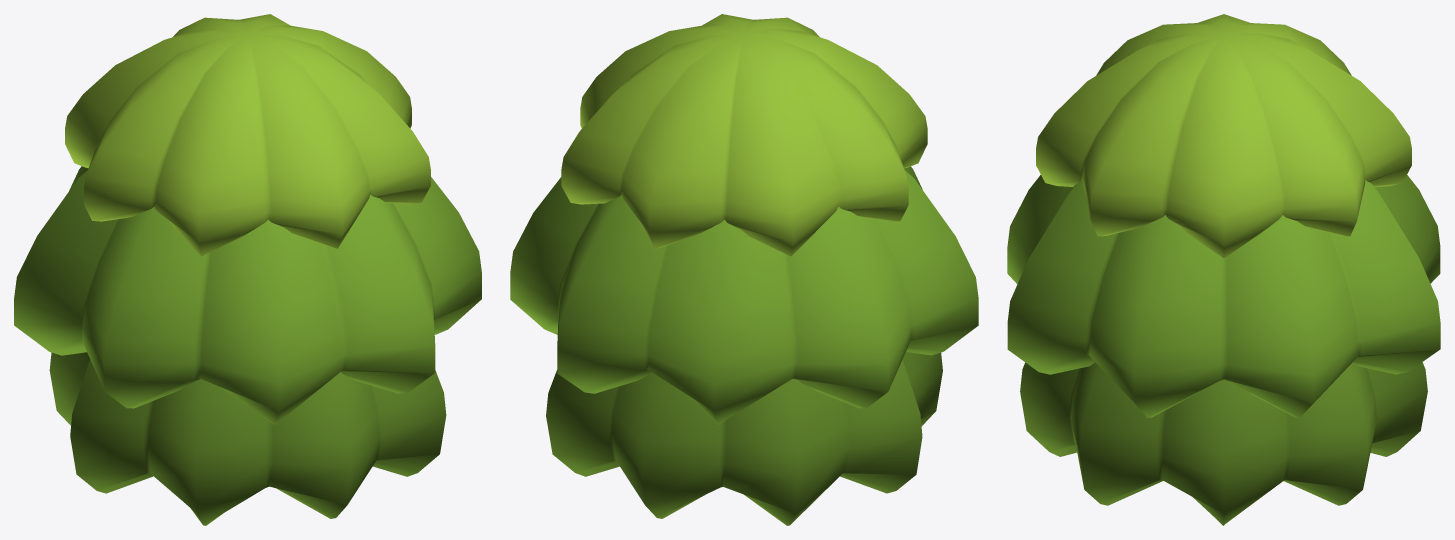
File: bush big.fbx
3 views of the same model, side by side, from view 1: azimuth 30°, elevation 25°; view 2: azimuth 150°, elevation 25°; view 3: azimuth 270°, elevation 25° (orthographic).
Parts seen in each view (by area): view 1: bush.003, bush tall, Circle.001; view 2: bush.003, bush tall, Circle.001; view 3: bush.003, bush tall, Circle.001.
Part boxes in pixels (box(x1,y1,x2,y2)): bush.003: box(14, 166, 481, 424); bush tall: box(65, 14, 430, 256); Circle.001: box(49, 352, 446, 525); bush.003: box(510, 166, 978, 424); bush tall: box(561, 14, 927, 256); Circle.001: box(546, 352, 942, 525); bush.003: box(1007, 175, 1440, 417); bush tall: box(1036, 14, 1411, 258); Circle.001: box(1020, 362, 1427, 525).
Bounding box in the file's own units: 276 × 297 × 276.
